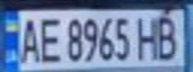5: (112, 14, 136, 61)
6: (97, 14, 118, 62)
8: (63, 14, 84, 62)
9: (81, 14, 100, 62)
A: (15, 13, 42, 64)
B: (154, 12, 184, 61)
E: (36, 13, 63, 64)
H: (133, 12, 163, 61)
